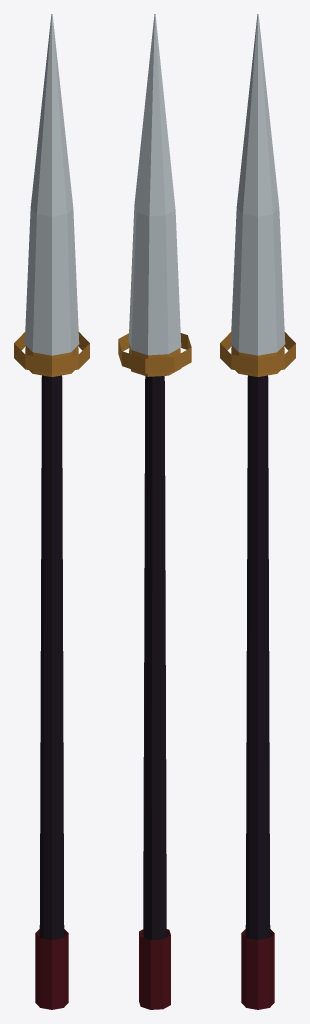
The model's file is KGB_WPN_Yari_GAME_v01.obj.
3 views of the same model, side by side, from view 1: azimuth 90°, elevation 25°; view 2: azimuth 210°, elevation 25°; view 3: azimuth 270°, elevation 25° (orthographic).
Parts seen in each view (by area): view 1: KGB_WPN_Yari_GAME_v01; view 2: KGB_WPN_Yari_GAME_v01; view 3: KGB_WPN_Yari_GAME_v01.
Boxes of the visible parts, x1,y1,x2,y2 form: KGB_WPN_Yari_GAME_v01: (14,14,89,1009); KGB_WPN_Yari_GAME_v01: (118,14,191,1009); KGB_WPN_Yari_GAME_v01: (220,14,295,1009).
Bounding box in the file's own units: 0.64 × 9.2 × 0.64.
